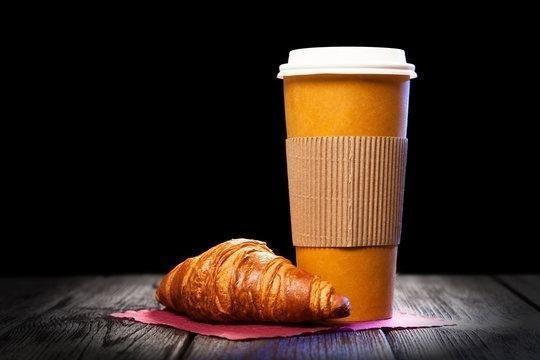cup-disposable: (275, 42, 418, 324)
